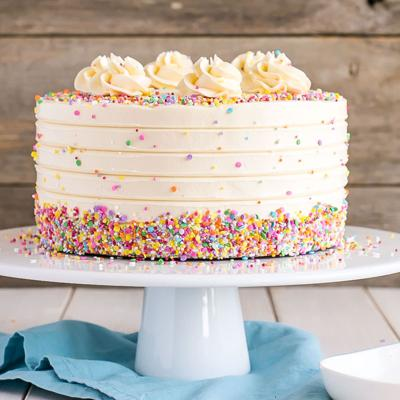cake: (28, 50, 350, 260)
